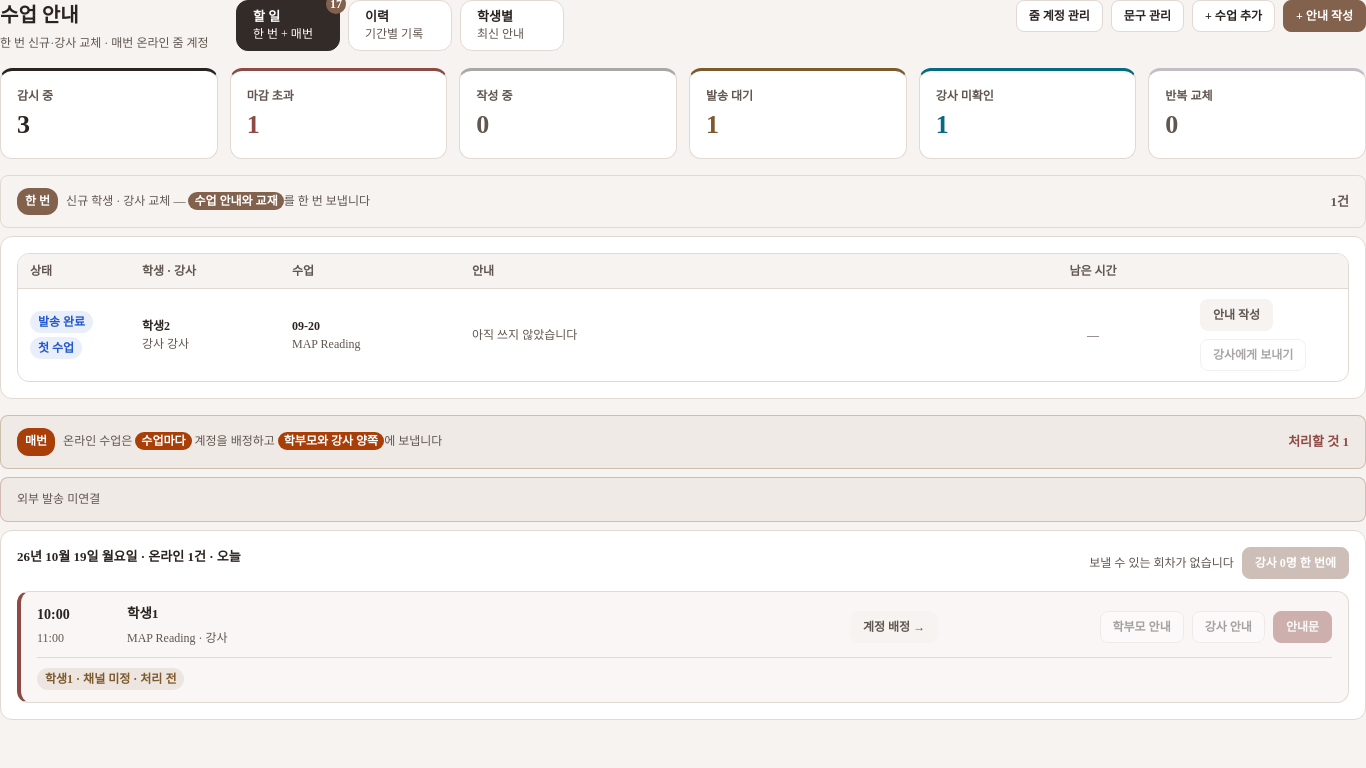
it: 배정 성공 후 안내를 새로 읽어 계정 칩과 강사 안내 허용을 표시한다
Step 1. Click the button "계정 배정 →" → (894, 626), box x1=850 y1=610 x2=938 y2=642
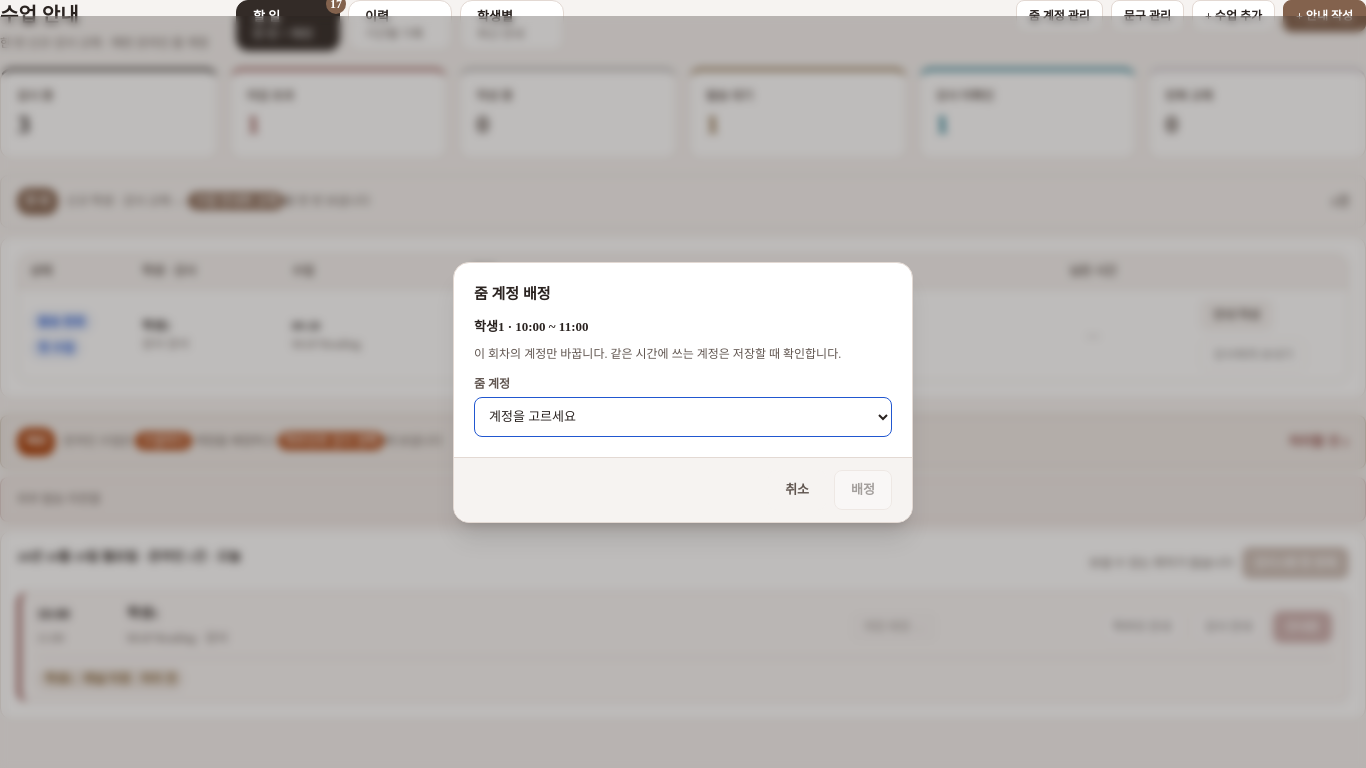
Step 2. Select "Study" in the dropdown labelled "줌 계정" → (683, 416), box x1=474 y1=396 x2=892 y2=436
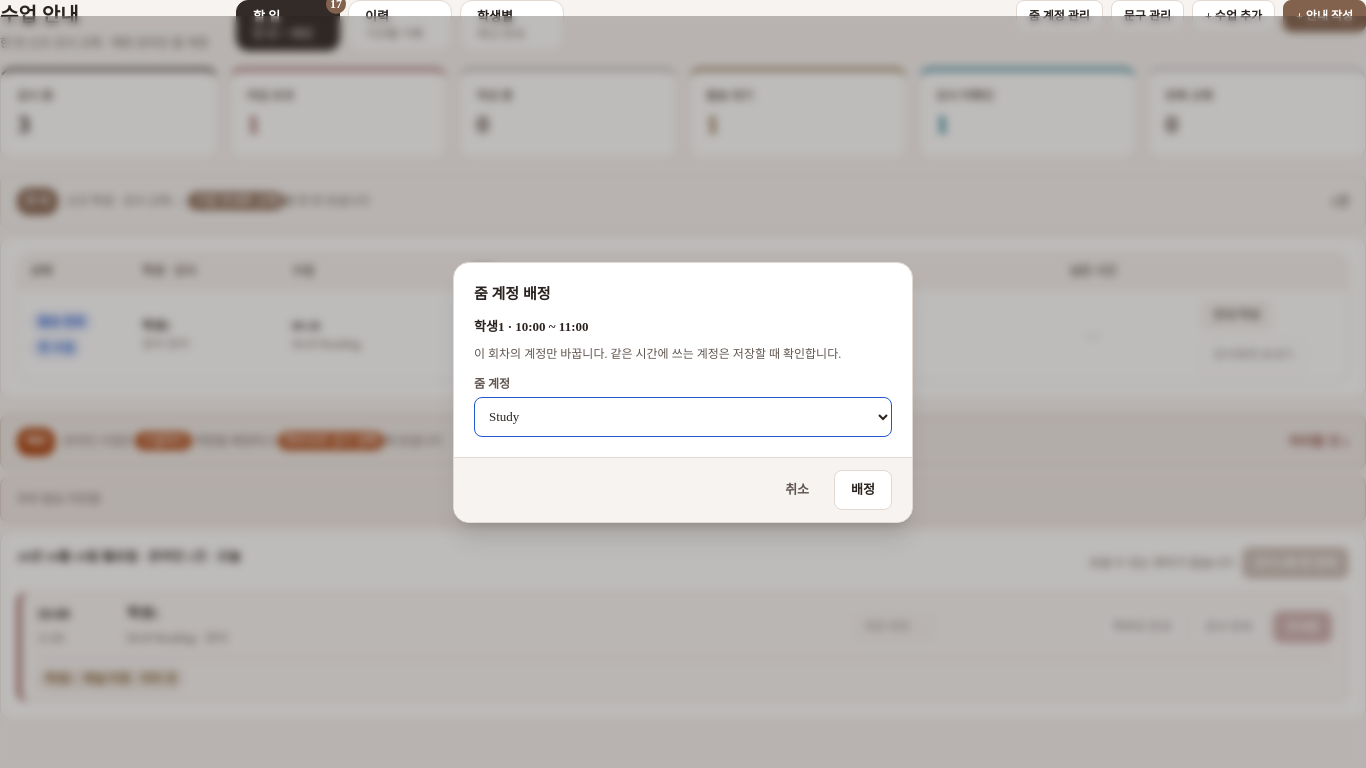
Step 3. Click the button "배정" → (863, 490), box x1=834 y1=470 x2=892 y2=510
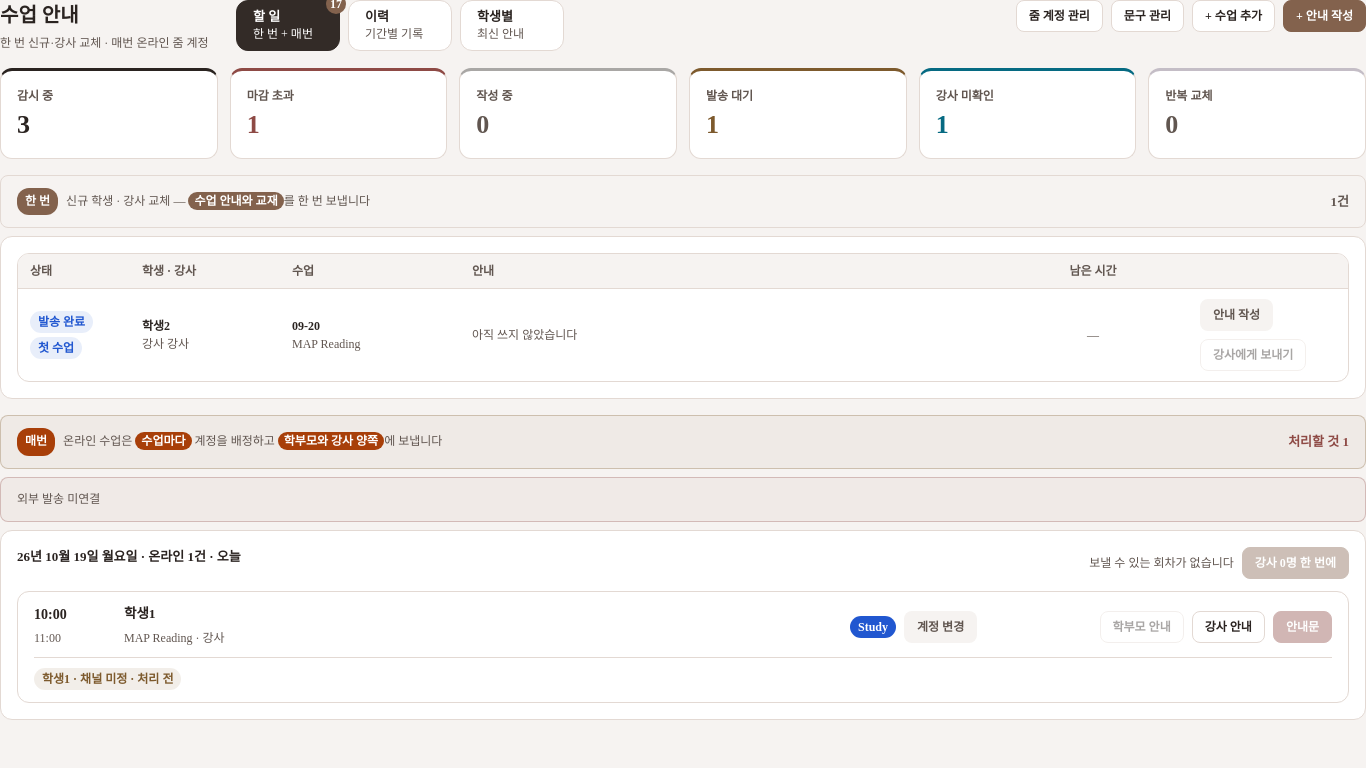
Now the dialog is gone
Now the button "계정 변경" is shown, box x1=904 y1=610 x2=977 y2=642
Now the text "Study" is shown, box x1=850 y1=616 x2=896 y2=638
